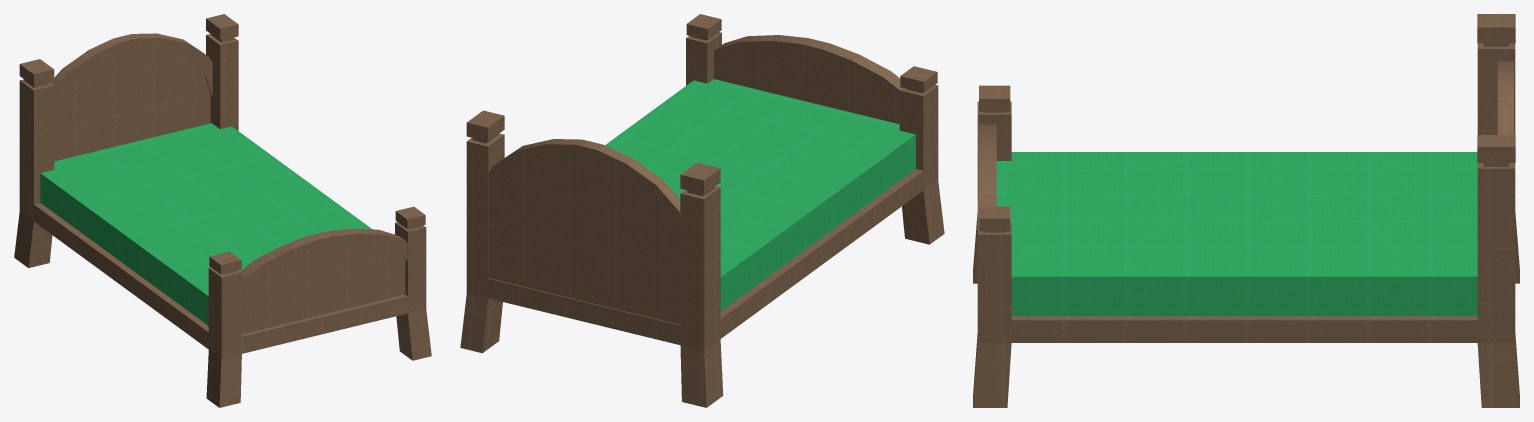
File: green_bed.fbx
3 views of the same model, side by side, from view 1: azimuth 30°, elevation 25°; view 2: azimuth 150°, elevation 25°; view 3: azimuth 270°, elevation 25° (orthographic). The views are drawn at different scales.
Visible parts, largest first — view 1: Green Bed; view 2: Green Bed; view 3: Green Bed.
Part boxes in pixels (x1,y1,x2,y2): Green Bed: (14,14,431,407); Green Bed: (460,14,944,407); Green Bed: (973,14,1519,407).
Bounding box in the file's own units: 180 × 159 × 301.
